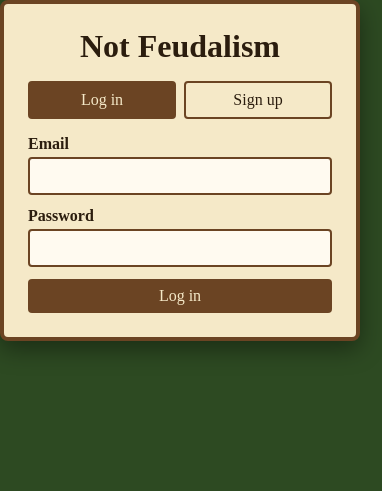
Scenario: AuthScreen › explains character name rules before sign-up is sent
Click the tab "Sign up": (258, 100) [184, 81, 332, 119]
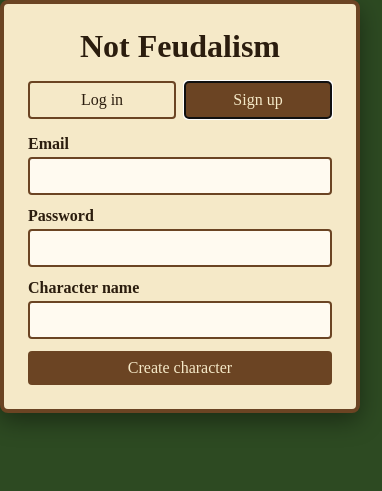
In the field labelled "Email": (180, 176) [28, 157, 332, 195], type "alice@example.test"
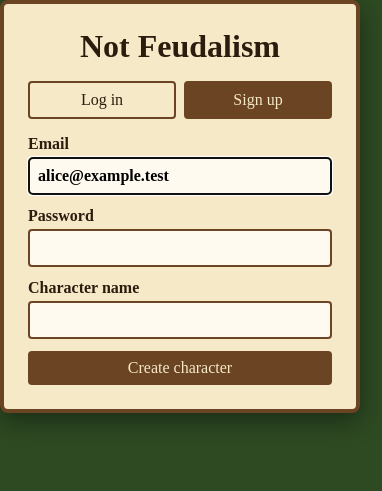
In the password field labelled "Password": (180, 248) [28, 229, 332, 267], type "correct horse battery"
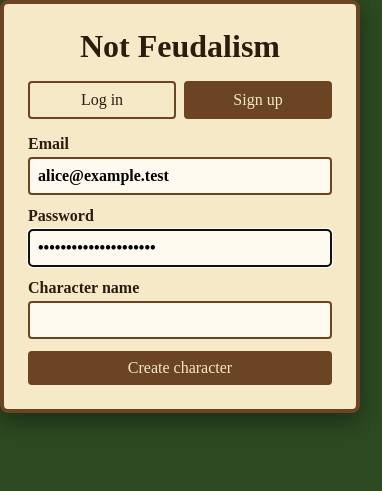
In the field labelled "Character name": (180, 320) [28, 301, 332, 339], type "1Alice"
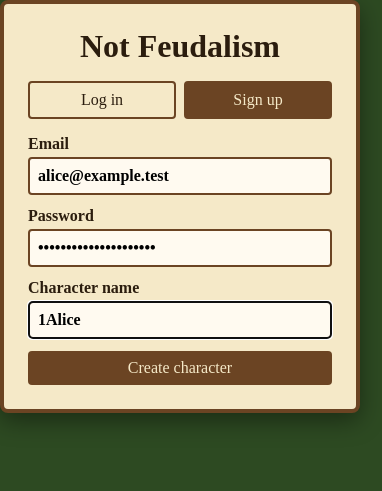
Click the button "Create character": (180, 368) [28, 351, 332, 385]
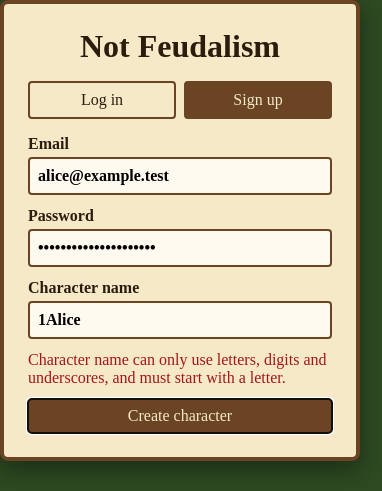
Now the message shows "Character name can only use letters, digits and underscores, and must start with a letter.", box [28, 351, 327, 386]
